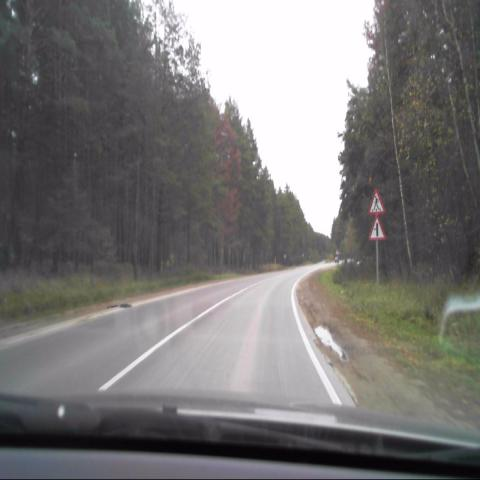1_22: (368, 190, 385, 215)
2_3_3: (369, 217, 385, 240)
